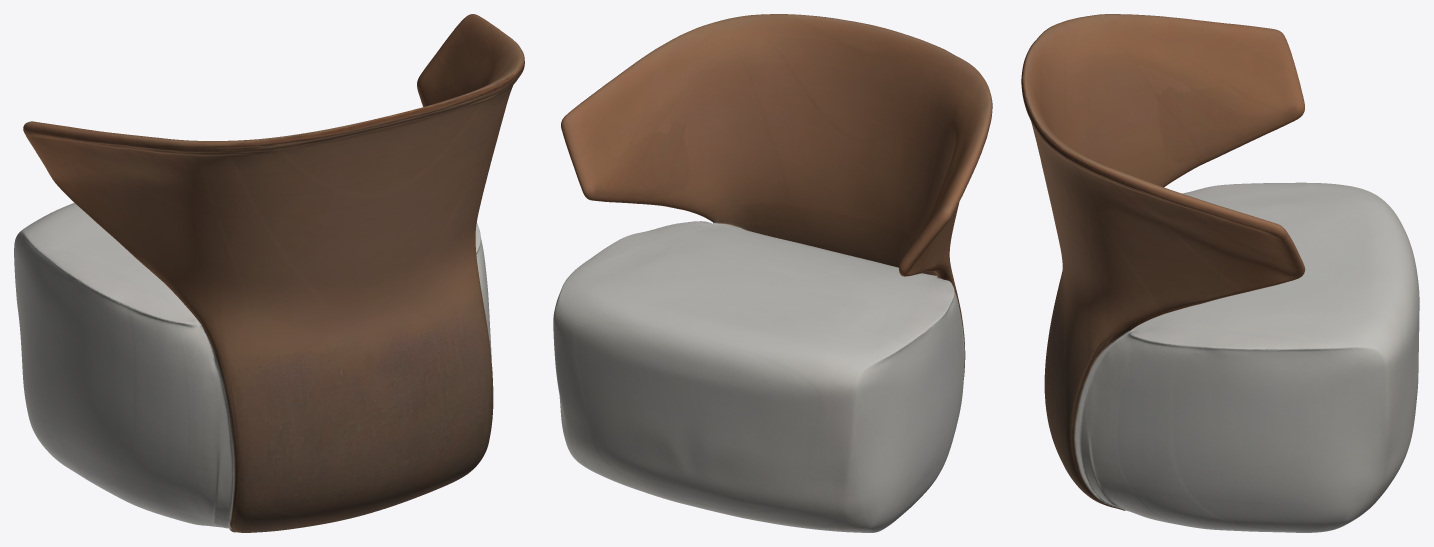
File: modern-chair.glb
3 views of the same model, side by side, from view 1: azimuth 30°, elevation 25°; view 2: azimuth 150°, elevation 25°; view 3: azimuth 270°, elevation 25° (orthographic). The views are drawn at different scales.
Parts seen in each view (by area): view 1: tripo_node_0c25558c-6389-4b6e-b726-2976fa722700; view 2: tripo_node_0c25558c-6389-4b6e-b726-2976fa722700; view 3: tripo_node_0c25558c-6389-4b6e-b726-2976fa722700.
Boxes of the visible parts, <box> form: tripo_node_0c25558c-6389-4b6e-b726-2976fa722700: <box>14,14,524,532</box>; tripo_node_0c25558c-6389-4b6e-b726-2976fa722700: <box>553,14,992,532</box>; tripo_node_0c25558c-6389-4b6e-b726-2976fa722700: <box>1021,14,1419,532</box>.
Bounding box in the file's own units: 1 × 0.9567 × 0.8494.
Materials: 1 (1 with a texture image).
